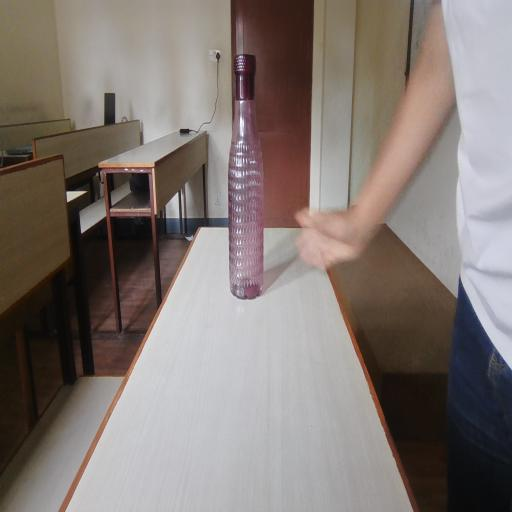Bottle: (220, 58, 288, 307)
